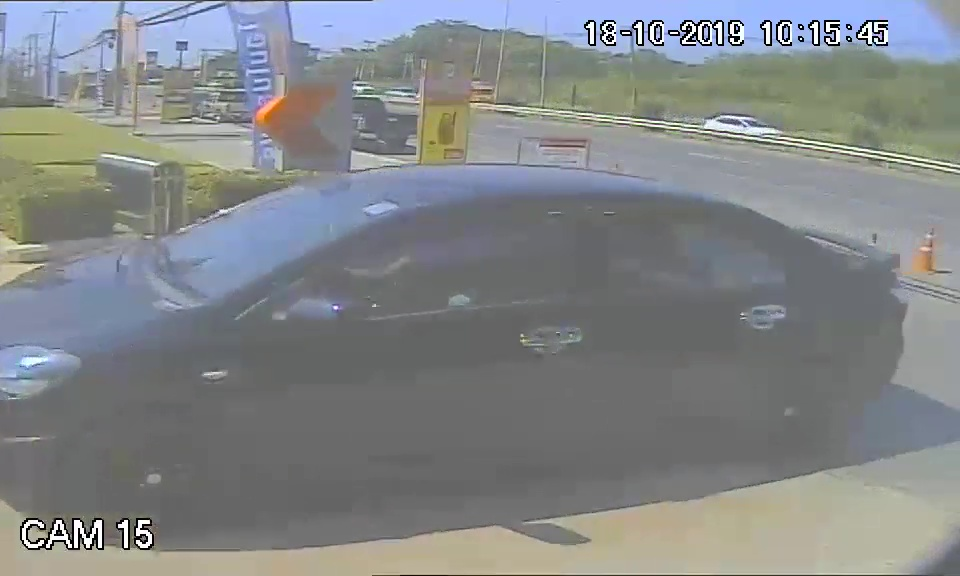sedan: (3, 161, 908, 519)
